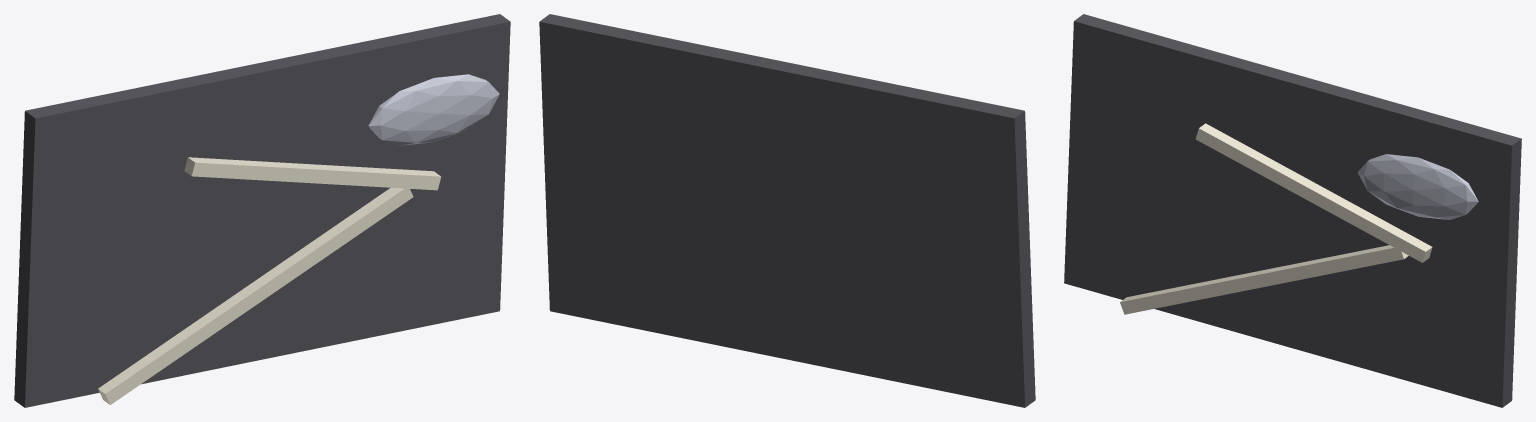
Rendered from 02_weathering_wear_overlay_2.glb.
3 views of the same model, side by side, from view 1: azimuth 30°, elevation 25°; view 2: azimuth 150°, elevation 25°; view 3: azimuth 330°, elevation 25° (orthographic). The views are drawn at different scales.
Parts seen in each view (by area): view 1: wear_plate, scratch_a, rust_or_moss_spot, scratch_b; view 2: wear_plate; view 3: wear_plate, rust_or_moss_spot, scratch_b, scratch_a.
Boxes of the visible parts, x1,y1,x2,y2 form: wear_plate: (14, 14, 510, 407); scratch_a: (98, 187, 413, 404); rust_or_moss_spot: (368, 74, 499, 145); scratch_b: (184, 157, 440, 190); wear_plate: (539, 14, 1035, 407); wear_plate: (1064, 14, 1521, 407); rust_or_moss_spot: (1357, 154, 1478, 219); scratch_b: (1195, 123, 1432, 262); scratch_a: (1120, 245, 1408, 314).
Size of the model in its own units: 1.33 by 0.7996 by 0.134.
